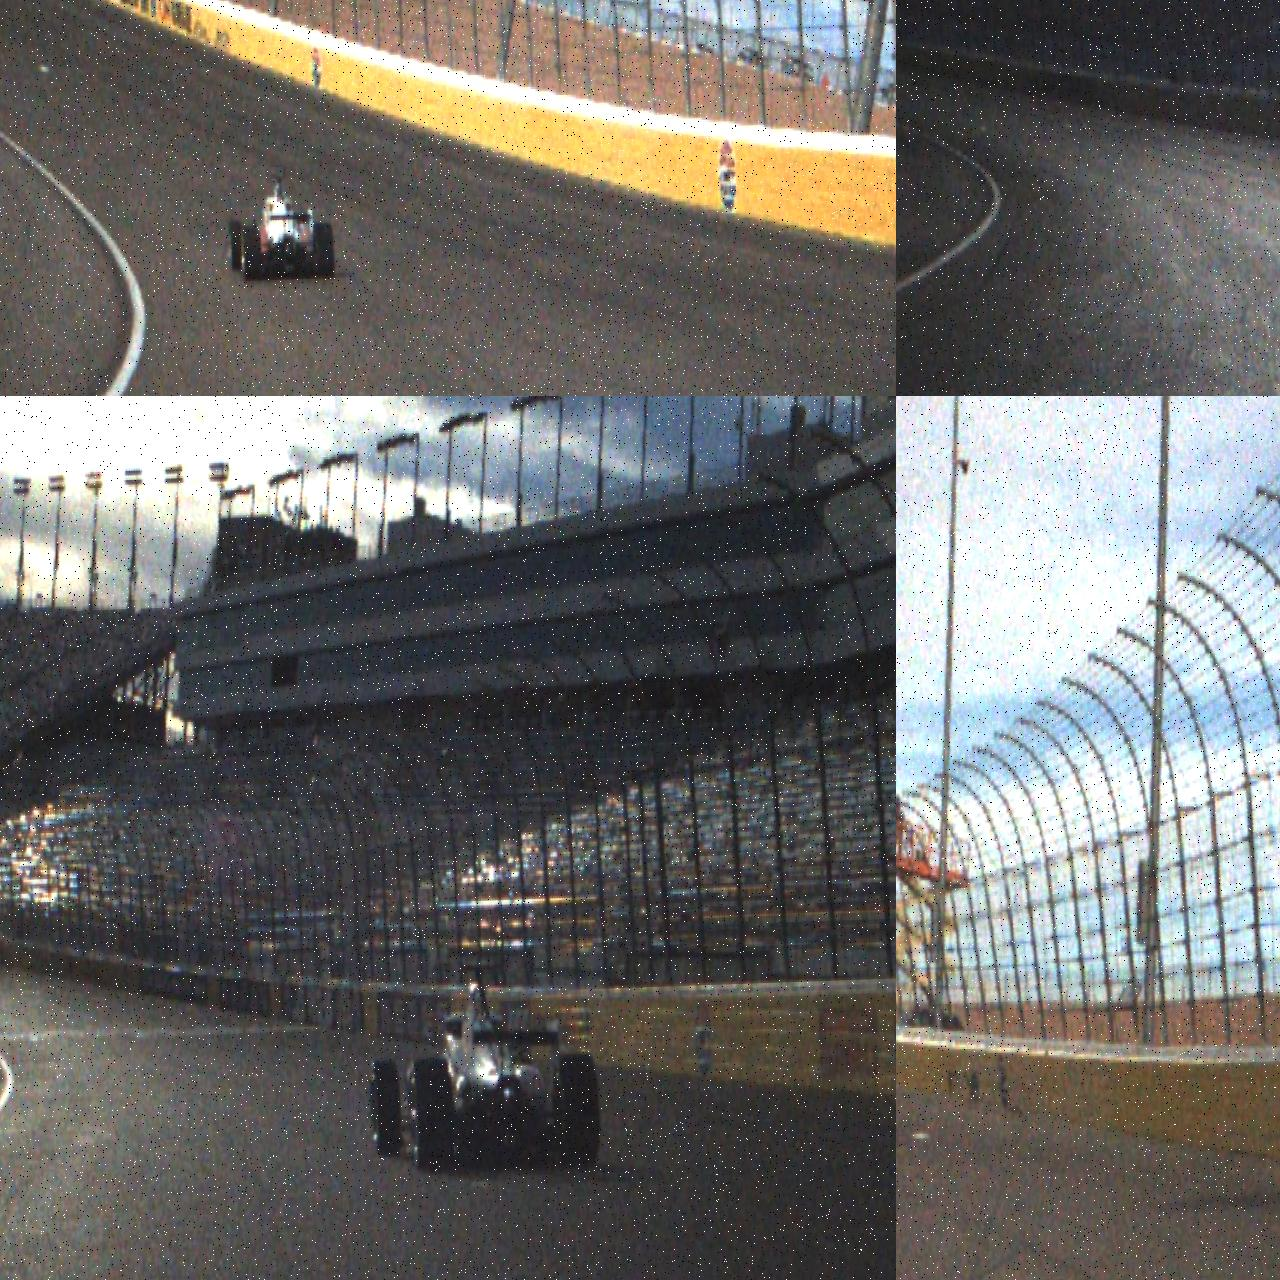AV: (364, 959, 604, 1180), (225, 160, 335, 282)
Wheel: (550, 1052, 602, 1172), (407, 1058, 455, 1170), (368, 1060, 403, 1158), (240, 225, 262, 282), (314, 222, 335, 280), (227, 218, 243, 271)
